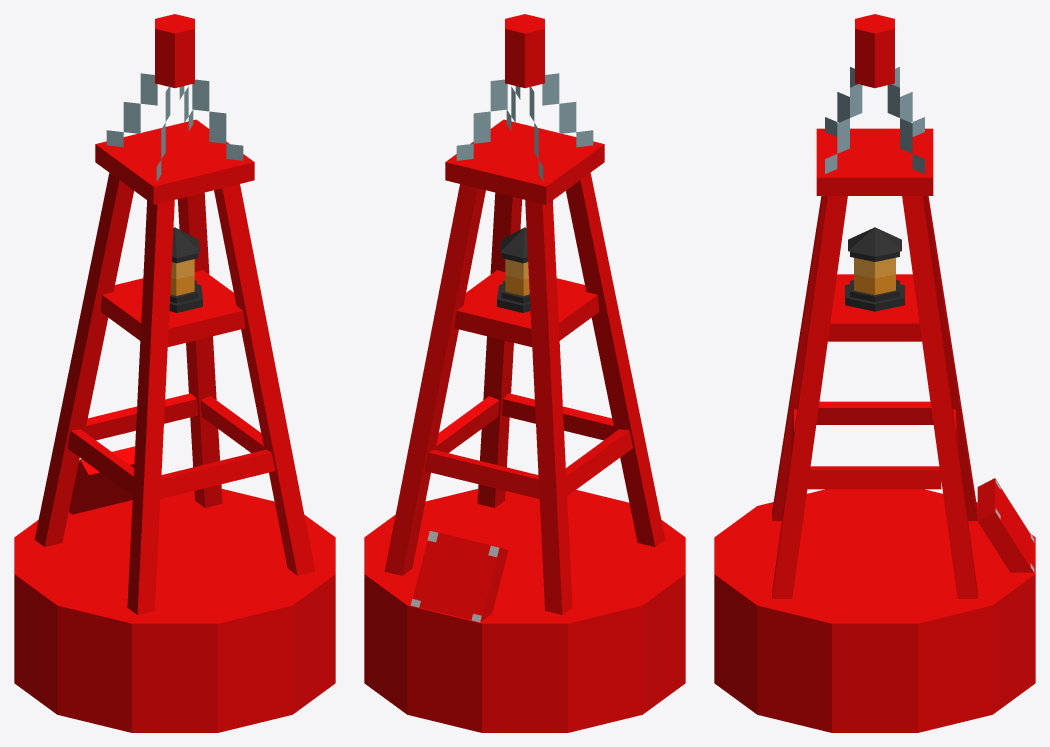
The model's file is Buoy.gltf.
3 views of the same model, side by side, from view 1: azimuth 30°, elevation 25°; view 2: azimuth 150°, elevation 25°; view 3: azimuth 270°, elevation 25° (orthographic).
Visible parts, largest first — view 1: cylinder (×2), Struct, plane (×2), Base, glass, cone; view 2: cylinder (×2), Struct, Base, plane (×2), glass, cone; view 3: cylinder (×2), Struct, plane (×4), Base, glass, cone, tube.
Boxes of the visible parts, x1,y1,x2,y2 form: cylinder (×2): (14,14,335,732); Struct: (34,119,315,614); plane (×2): (106,73,243,160); Base: (69,446,135,514); glass: (170,259,194,295); cone: (172,227,200,257); cylinder (×2): (364,14,685,732); Struct: (384,119,665,614); Base: (412,530,508,621); plane (×2): (456,73,593,160); glass: (505,259,529,295); cone: (499,227,527,257); cylinder (×2): (714,14,1035,732); Struct: (772,128,977,598); plane (×4): (825,67,924,173); Base: (977,478,1033,572); glass: (854,257,895,294); cone: (848,227,901,256); tube: (845,284,904,311).
Size of the model in its own units: 1 by 2.2 by 1.
Materials: 5 (5 with a texture image).
